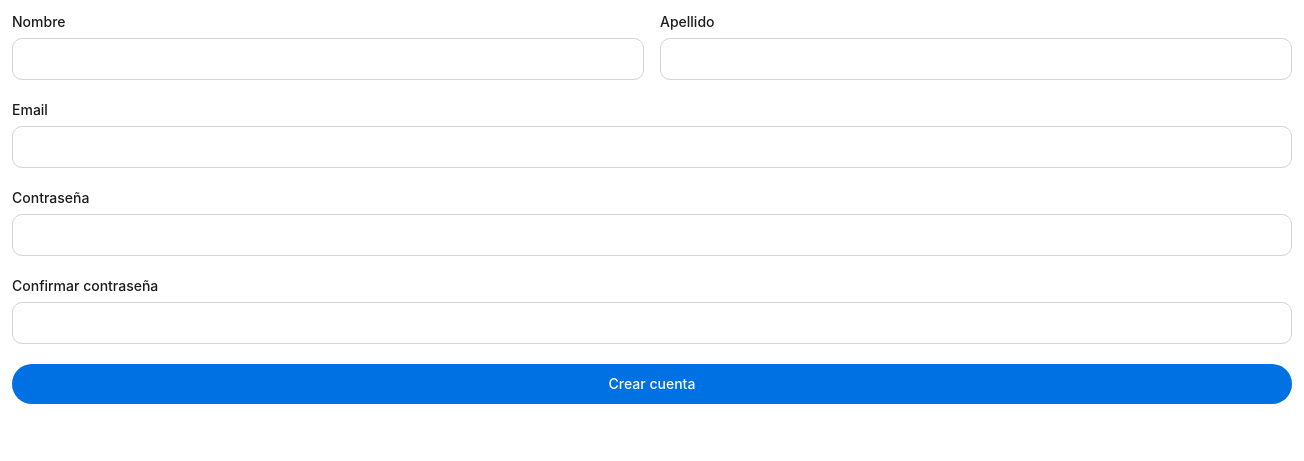
Scenario: RegisterForm › muestra error cuando las contraseñas no coinciden
Type "a@b.com" into the field labelled "Email" at (652, 147), box [12,126,1292,168]
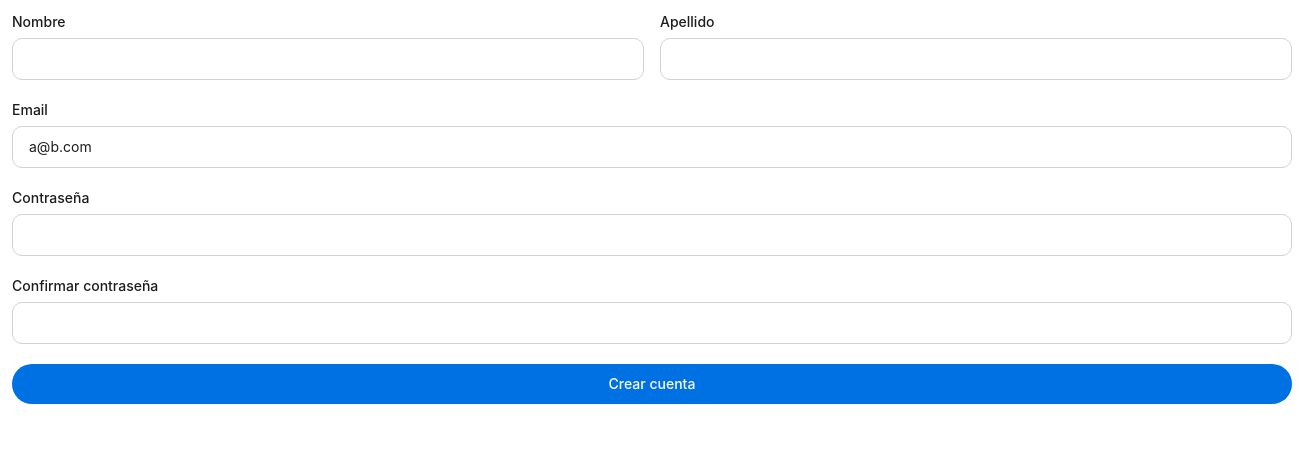
Type "Segura123!" into the password field labelled "Contraseña" at (652, 235), box [12,214,1292,256]
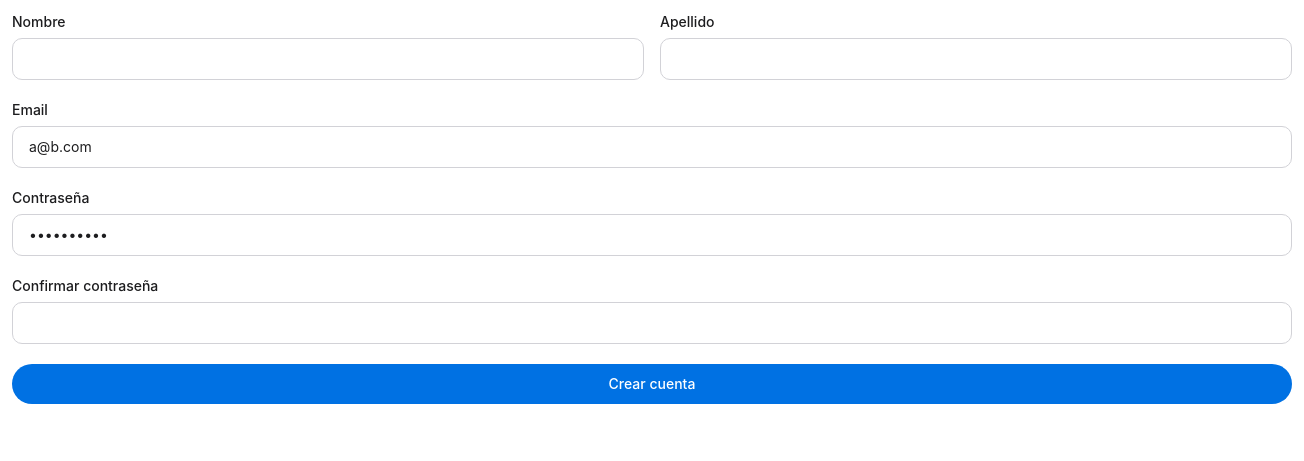
Type "Diferente!" into the password field labelled "Confirmar contraseña" at (652, 323), box [12,302,1292,344]
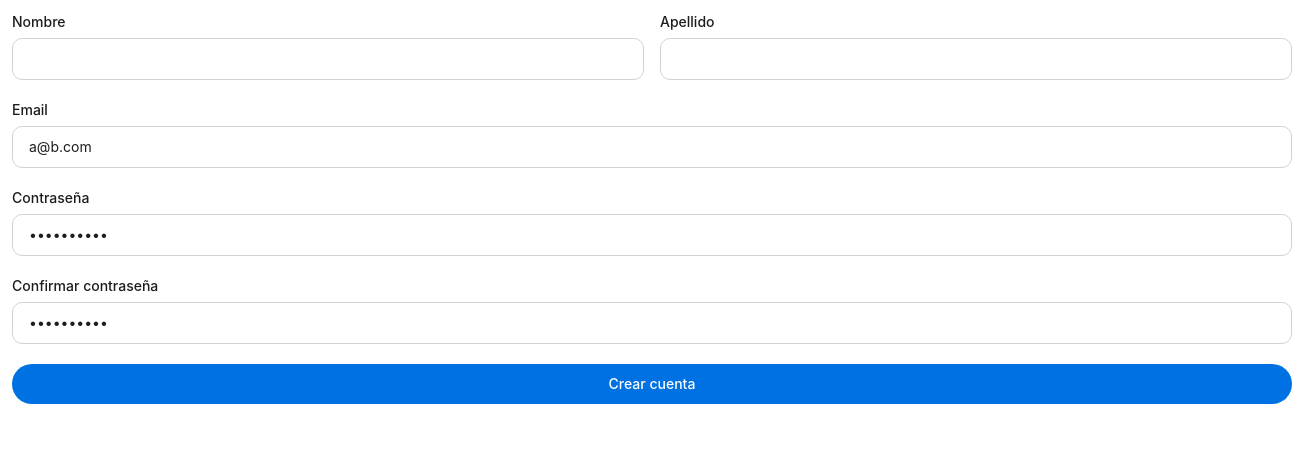
Type "Juan" into the field labelled "Nombre" at (328, 59), box [12,38,644,80]
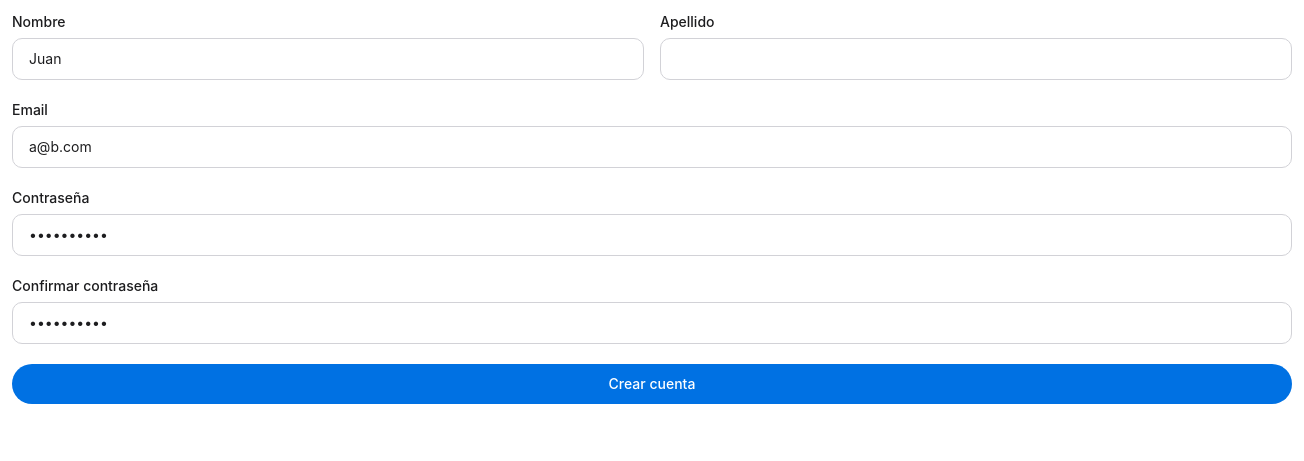
Type "Pérez" into the field labelled "Apellido" at (976, 59), box [660,38,1292,80]
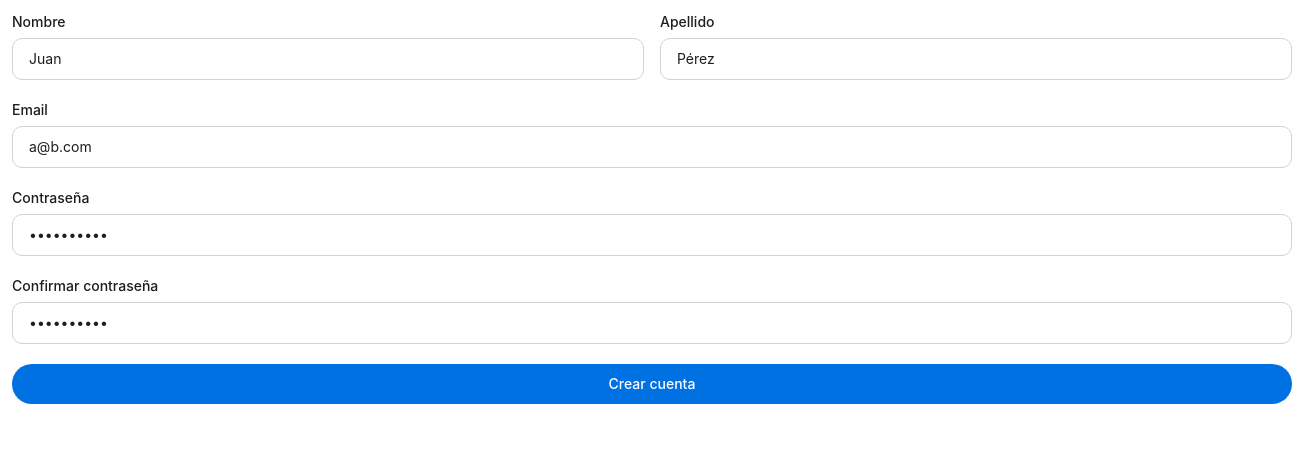
Click the button "Crear cuenta" at (652, 384), box [12,364,1292,404]
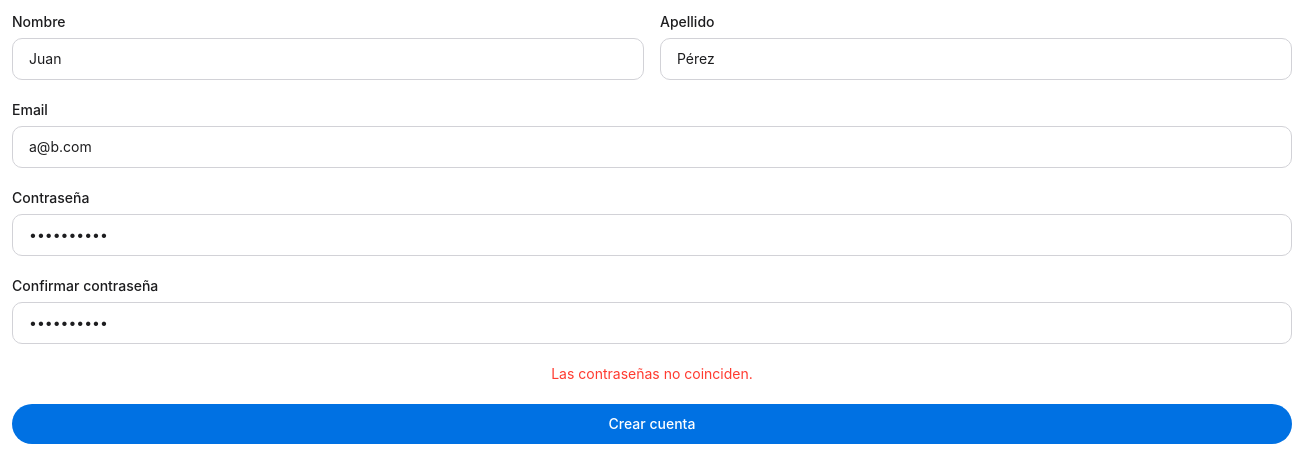
Result: the text "Las contraseñas no coinciden." is shown at [551,365,753,382]
